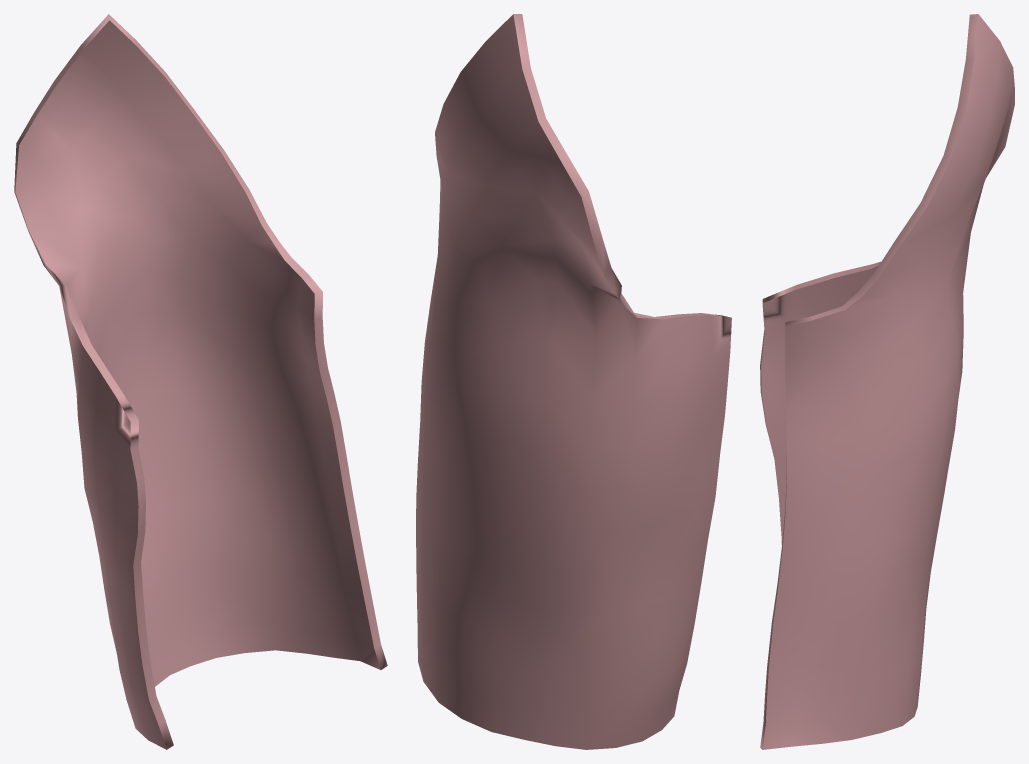
3 views of the same model, side by side, from view 1: azimuth 30°, elevation 25°; view 2: azimuth 150°, elevation 25°; view 3: azimuth 270°, elevation 25° (orthographic). The views are drawn at different scales.
Visible parts, largest first — view 1: ZA_45e91fff61430718; view 2: ZA_45e91fff61430718; view 3: ZA_45e91fff61430718.
Boxes of the visible parts, bbox=[...] form: ZA_45e91fff61430718: bbox=[14, 14, 387, 749]; ZA_45e91fff61430718: bbox=[416, 14, 731, 749]; ZA_45e91fff61430718: bbox=[760, 14, 1014, 749].
Bounding box in the file's own units: 0.0943 × 0.227 × 0.0766.
